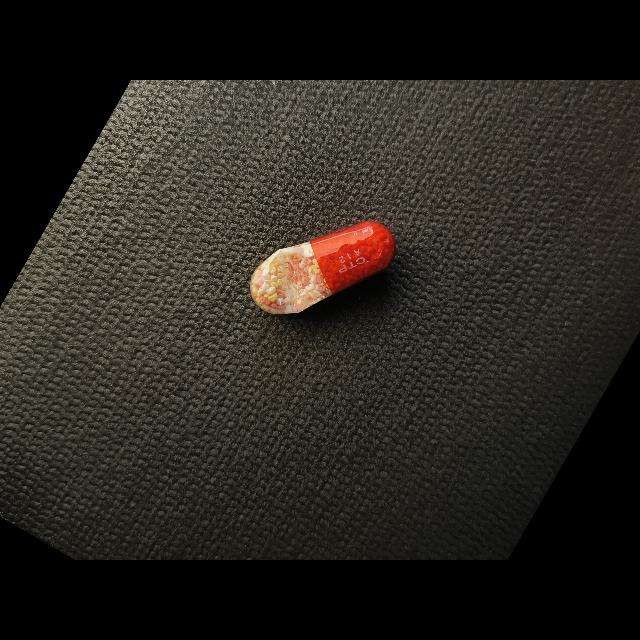Defective Capsule: (250, 221, 396, 314)
